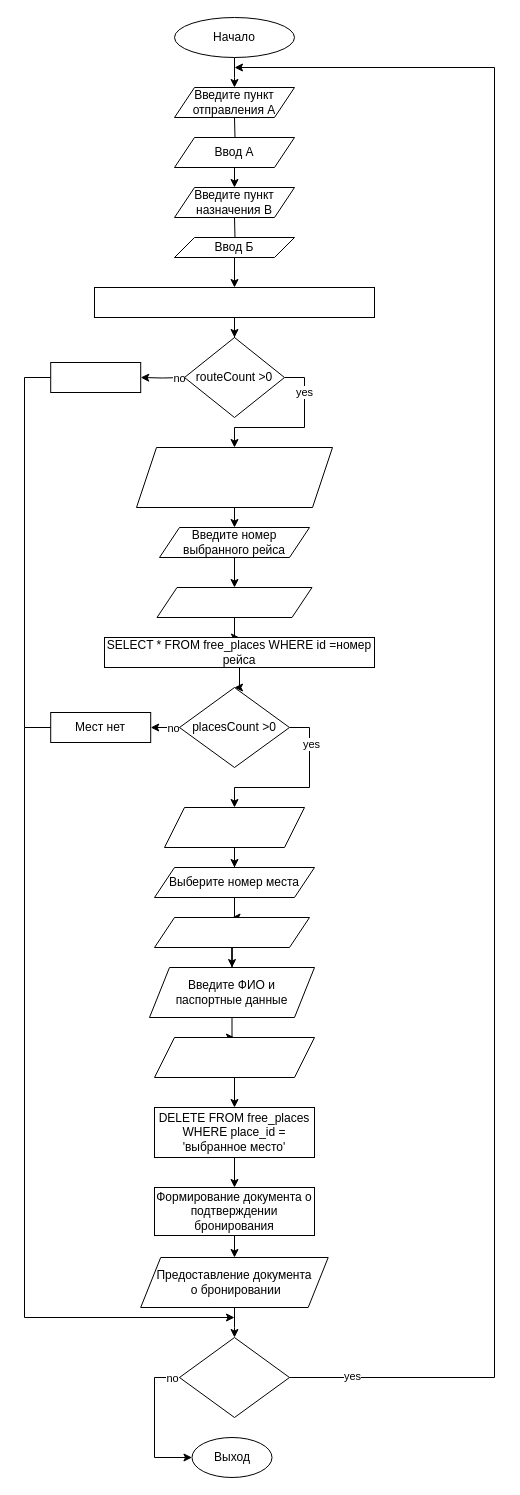
This 520x1495 diagram has some shape labels left out. The box of each missing label's shape, as (x1, y1, x2, y2) in pixels:
SELECT * FROM route WHERE a='A' AND b='B': (94, 286, 374, 318)
Ввод данных: (154, 1036, 314, 1078)
Ввод номера места: (154, 916, 310, 948)
Ввод рейса: (156, 586, 312, 618)
Вывод рейсов (дата, номер, количество свободных мест): (136, 446, 332, 508)
Вывод списка свободных мест: (164, 806, 304, 848)
Оформить еще билет?: (178, 1336, 290, 1418)
Рейсов нет: (50, 362, 141, 392)
